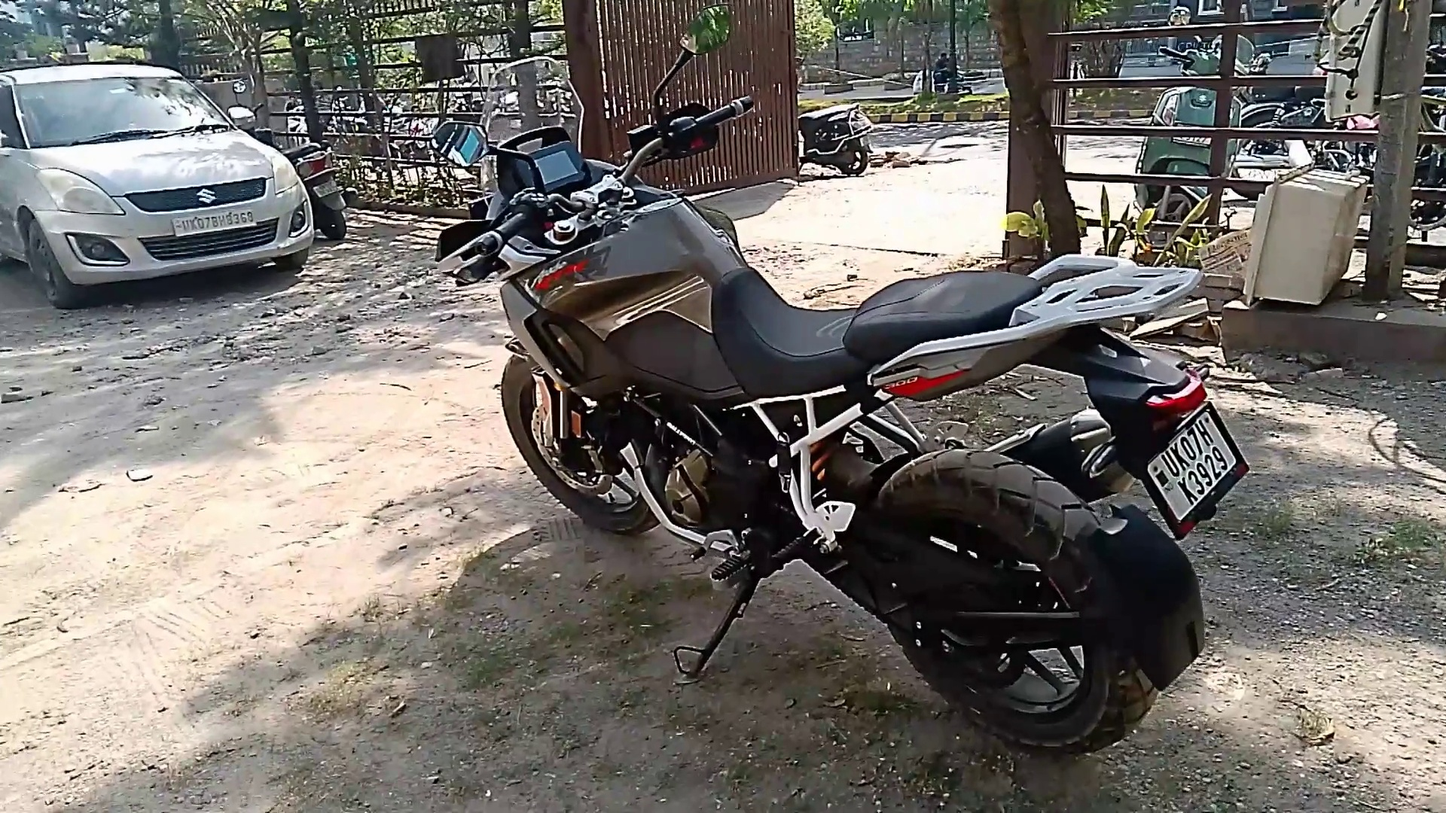engine: (650, 412, 734, 561)
